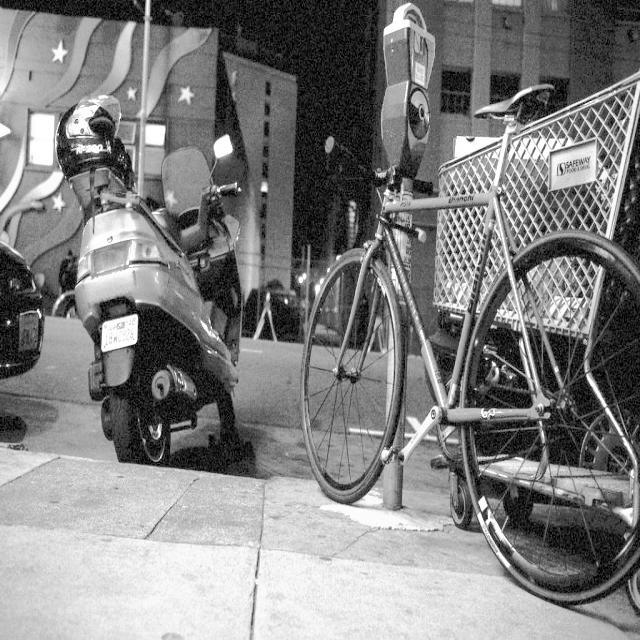Bicycle: (303, 20, 640, 608)
Motorcycle: (60, 138, 274, 446)
